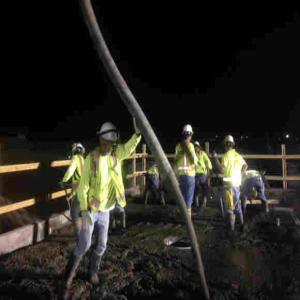white: (99, 122, 119, 154), (183, 123, 194, 142), (224, 135, 237, 151), (73, 143, 85, 158)
